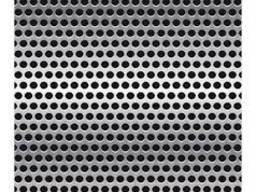Hole: (53, 7, 65, 17), (33, 7, 44, 17), (94, 7, 105, 17), (135, 7, 146, 17), (145, 7, 156, 17), (155, 7, 166, 17), (176, 7, 187, 17), (186, 7, 197, 17), (196, 7, 207, 17), (227, 7, 238, 17), (44, 7, 54, 17), (64, 7, 74, 17), (75, 7, 85, 17), (115, 7, 125, 17), (125, 7, 135, 17), (166, 7, 176, 17), (207, 7, 217, 17), (217, 7, 227, 17), (24, 7, 33, 17), (85, 7, 94, 16), (105, 7, 114, 16)
